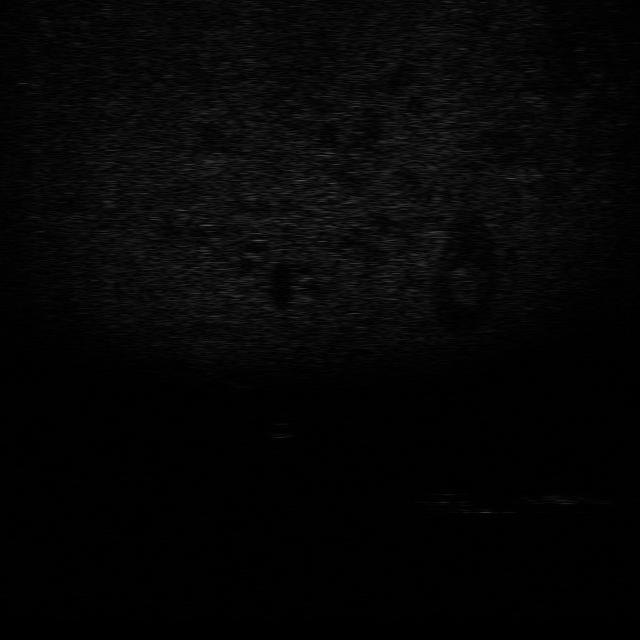ball: (260, 419, 300, 439)
metal bucket: (524, 489, 604, 509)
tyre: (435, 488, 510, 516)
